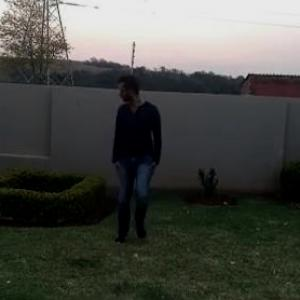follow: (109, 71, 162, 256)
